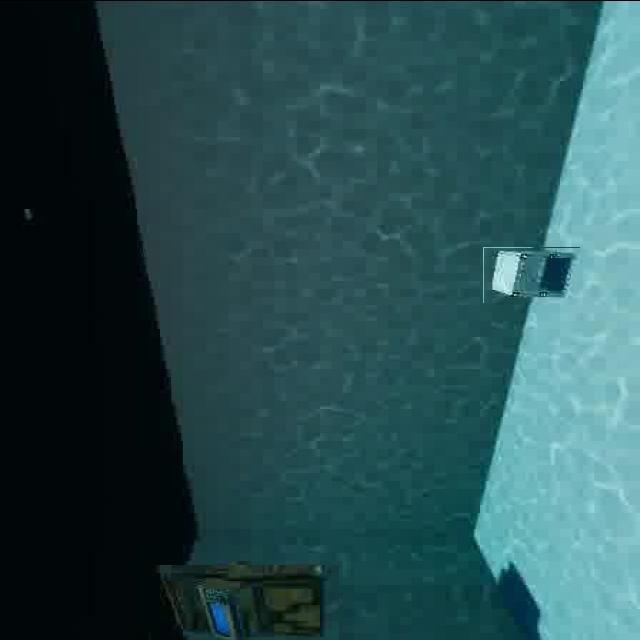Control Panel: (153, 564, 339, 640)
Docking Station: (483, 246, 580, 302)
